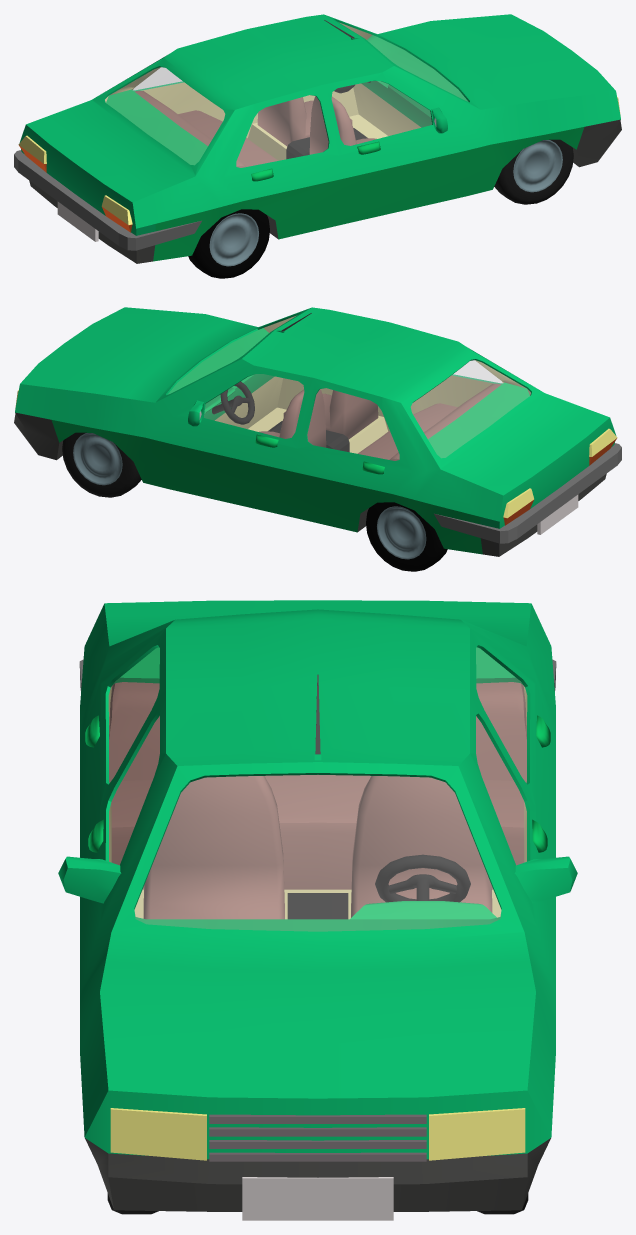
The model's file is car_3.glb.
3 views of the same model, one above another, from view 1: azimuth 30°, elevation 25°; view 2: azimuth 150°, elevation 25°; view 3: azimuth 270°, elevation 25° (orthographic). The views are drawn at different scales.
Visible parts, largest first — view 1: Transport4; view 2: Transport4; view 3: Transport4.
Part boxes in pixels (bbox=[...]): Transport4: bbox=[14, 14, 621, 278]; Transport4: bbox=[14, 307, 621, 571]; Transport4: bbox=[58, 600, 577, 1220].
Size of what is drawn, in the model's own units: 3.1 by 1.09 by 1.37.
2 materials, 2 textured.
